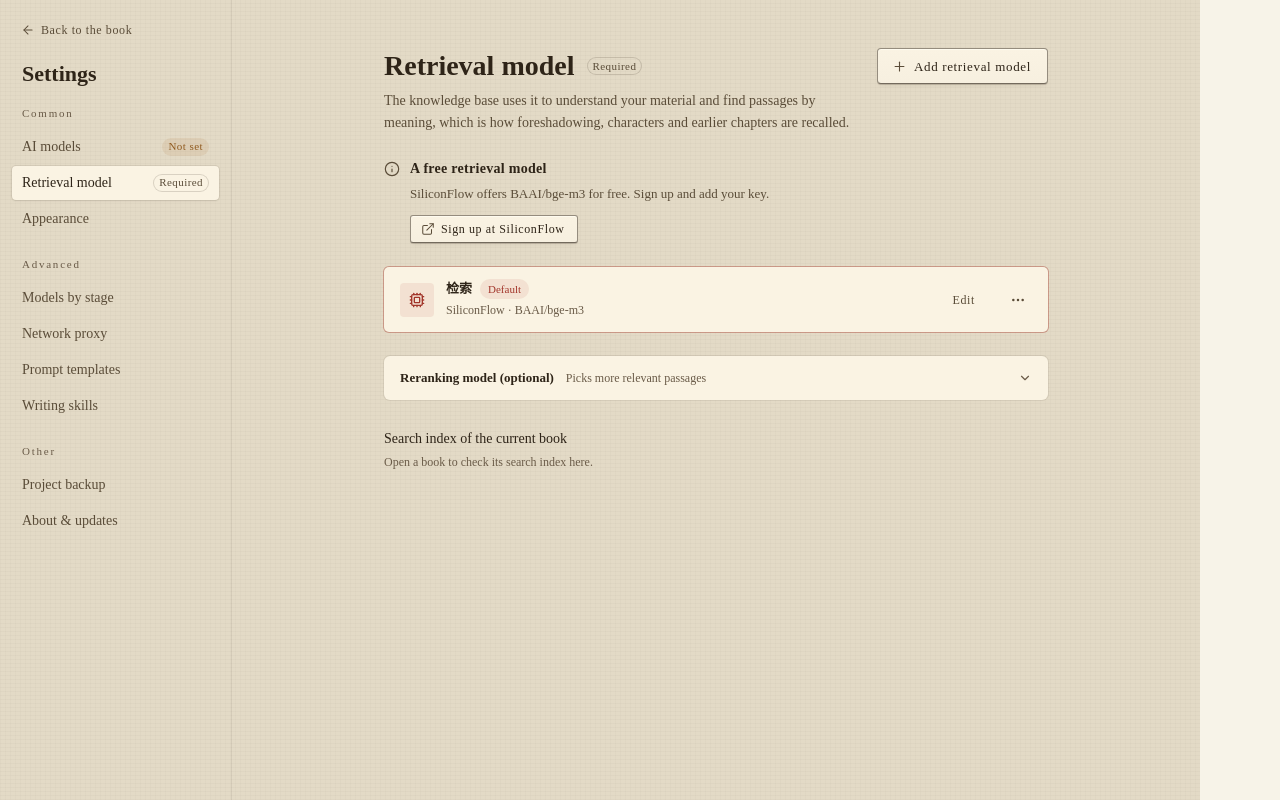
it: 检索模型页的重排分区 › 英文界面显示英文
The image size is (1280, 800).
Click the button "Reranking model (optional) Picks more relevant passages". click: [477, 377]
box: [384, 356, 1048, 400]
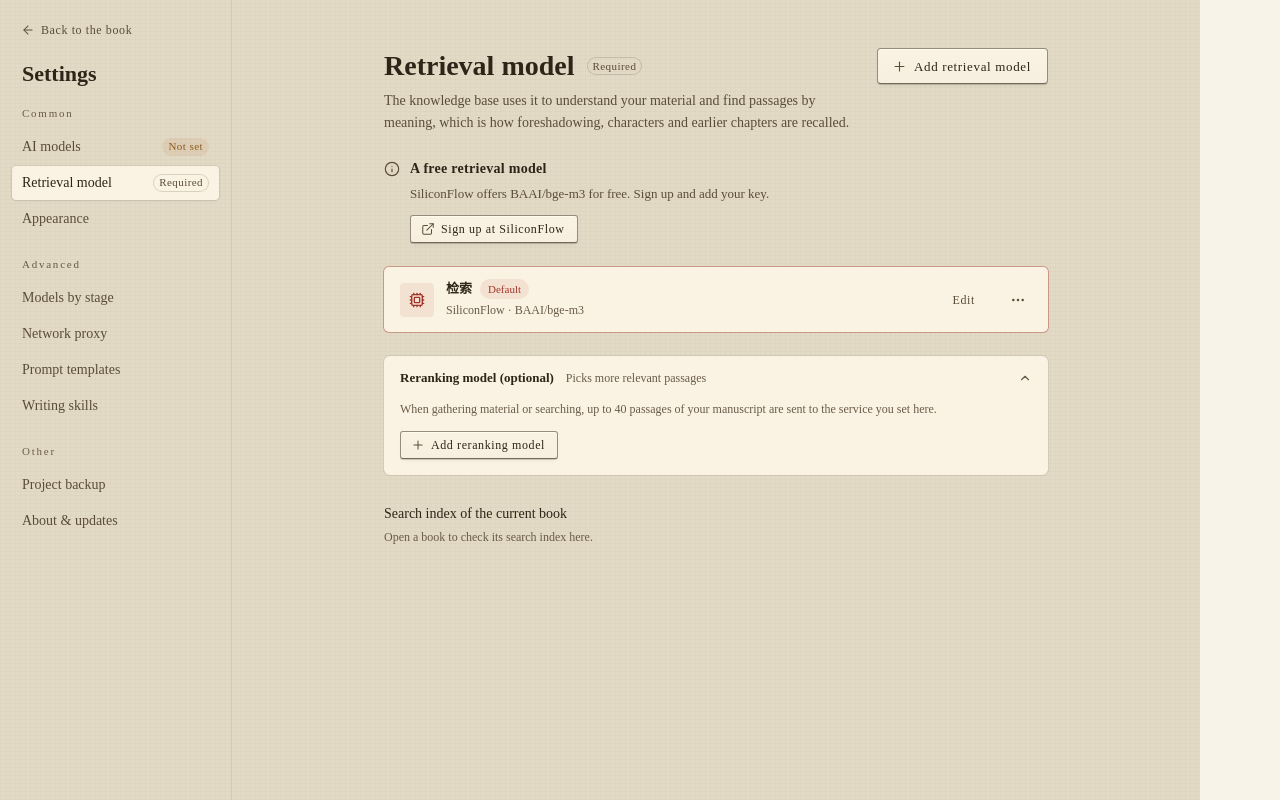
Expected: the element named "Reranking model" shows "When gathering material or searching, up to 40 passages of your manuscript are sent to the service you set here.", [400, 402, 937, 416]
